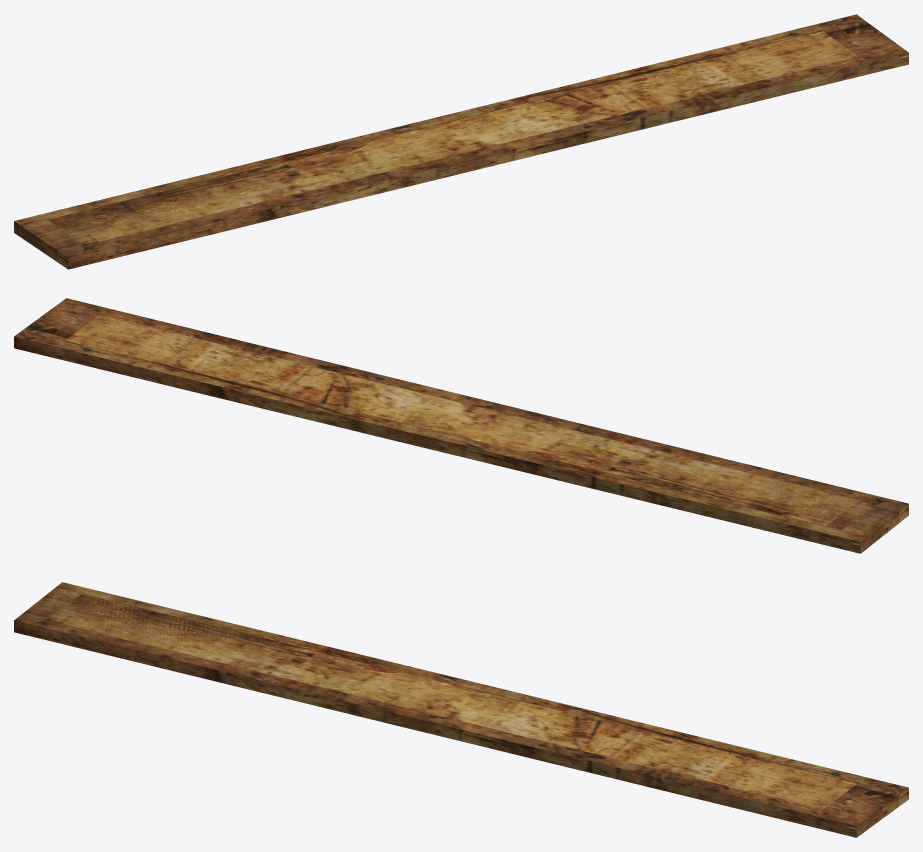
The model's file is plank_of_wood.FBX.
The picture shows the model from 3 angles, top to bottom: view 1: azimuth 30°, elevation 25°; view 2: azimuth 150°, elevation 25°; view 3: azimuth 330°, elevation 25°; orthographic projection.
Parts seen in each view (by area): view 1: plank_of_wood_02, plank_of_wood_03, plank_of_wood_01; view 2: plank_of_wood_02, plank_of_wood_03, plank_of_wood_01; view 3: plank_of_wood_02, plank_of_wood_03, plank_of_wood_01.
Part boxes in pixels (x1,y1,x2,y2): plank_of_wood_02: (14,14,908,269); plank_of_wood_03: (69,31,857,241); plank_of_wood_01: (48,26,872,246); plank_of_wood_02: (14,298,908,553); plank_of_wood_03: (65,315,860,525); plank_of_wood_01: (49,311,876,530); plank_of_wood_02: (14,582,908,837); plank_of_wood_03: (62,598,857,809); plank_of_wood_01: (46,594,873,812).
Size of the model in its own units: 1.93 by 0.0257 by 0.2072.
